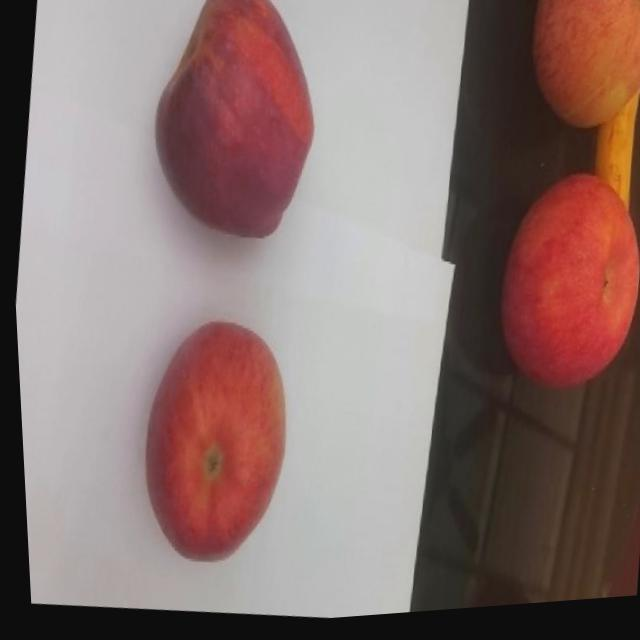Apple: (134, 0, 335, 253), (122, 311, 300, 577), (480, 168, 640, 409), (518, 0, 640, 150)
